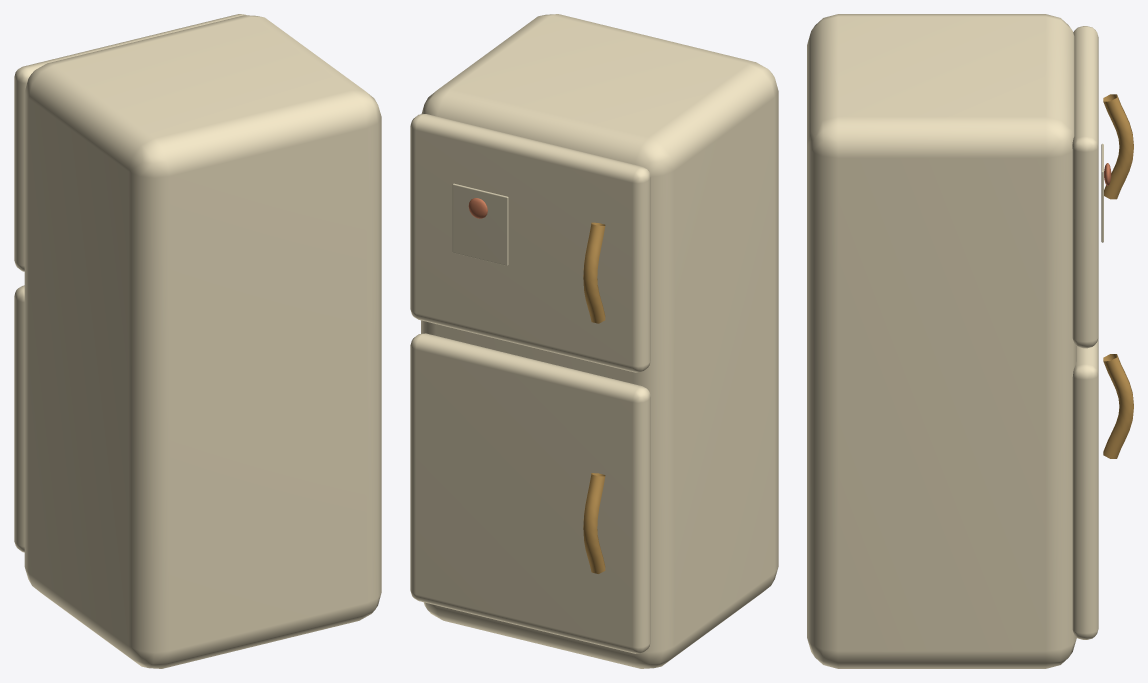
The model's file is fridge.glb.
The picture shows the model from 3 angles, left to right: view 1: azimuth 30°, elevation 25°; view 2: azimuth 150°, elevation 25°; view 3: azimuth 270°, elevation 25°; orthographic projection. The views are drawn at different scales.
Parts seen in each view (by area): view 1: House_fridge; view 2: House_fridge; view 3: House_fridge.
Part boxes in pixels (x1,y1,x2,y2): House_fridge: (14, 14, 381, 668); House_fridge: (410, 14, 778, 668); House_fridge: (807, 14, 1133, 668).
Bounding box in the file's own units: 0.72 × 1.46 × 0.7873.
